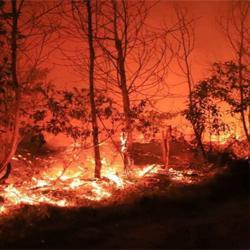fire: (91, 160, 123, 198), (4, 180, 37, 208), (46, 166, 84, 183)
